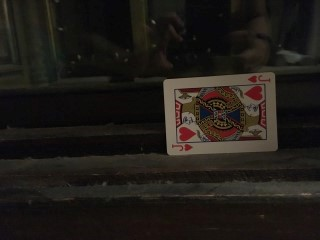JackOfHearts: (163, 72, 278, 155)
